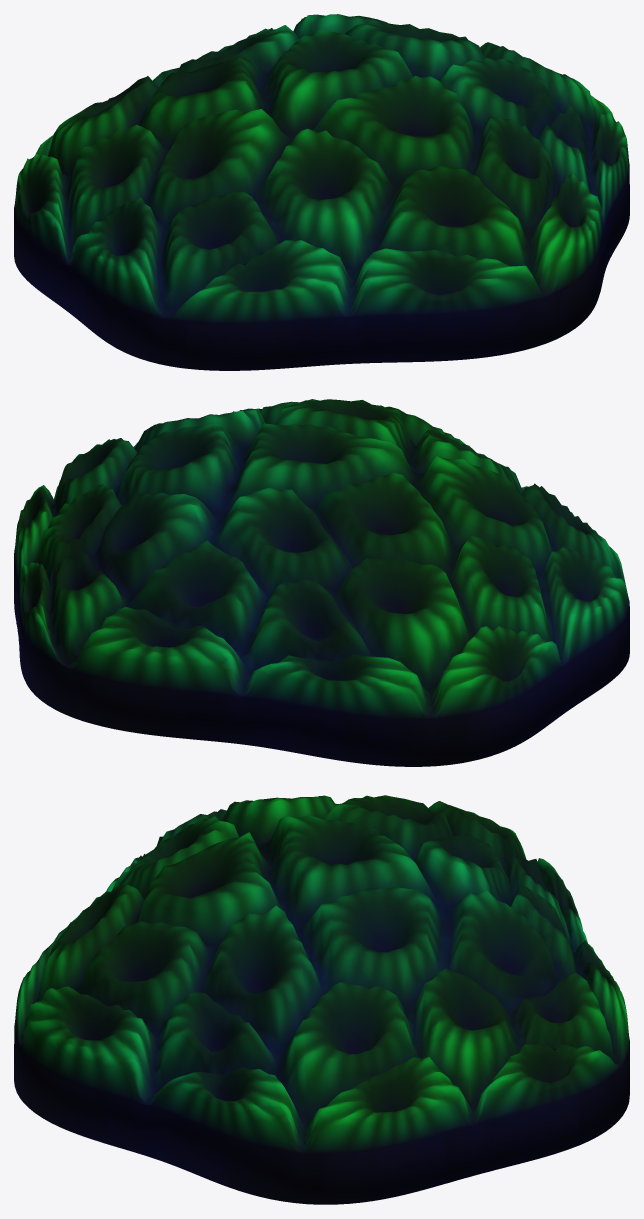
Rendered from reef-acanthastrea-lordhowensis.glb.
3 renders of one model, top to bottom at view 1: azimuth 30°, elevation 25°; view 2: azimuth 150°, elevation 25°; view 3: azimuth 270°, elevation 25°, orthographic. The views are drawn at different scales.
Visible parts, largest first — view 1: Reef_Acanthastrea_Lordhowensis; view 2: Reef_Acanthastrea_Lordhowensis; view 3: Reef_Acanthastrea_Lordhowensis.
Part boxes in pixels (x1,y1,x2,y2): Reef_Acanthastrea_Lordhowensis: (14, 14, 629, 370); Reef_Acanthastrea_Lordhowensis: (14, 399, 629, 766); Reef_Acanthastrea_Lordhowensis: (14, 795, 629, 1204).
Size of the model in its own units: 0.1967 by 0.0689 by 0.179.
1 material, 1 textured.
